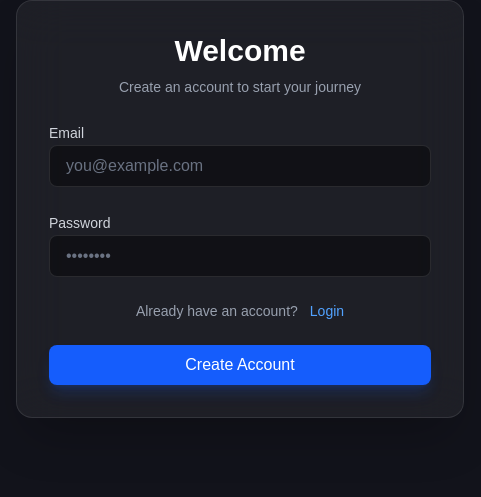
Test case: auth flow › shows an error for duplicate signup email
The width and height of the screenshot is (481, 497).
In the field with test id "auth-signup-email": (240, 166) [49,145,431,187], type "taken@example.com"
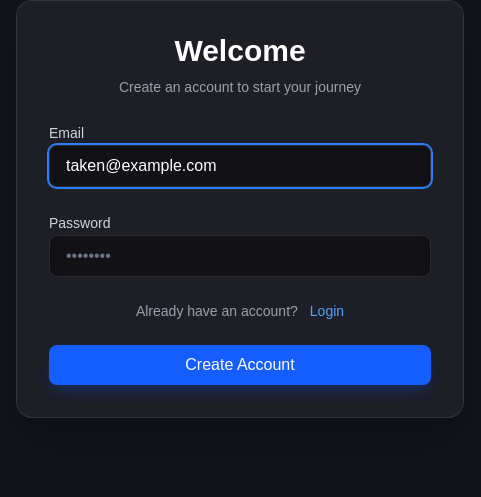
In the password field with test id "auth-signup-password": (240, 256) [49,235,431,277], type "newpassword"
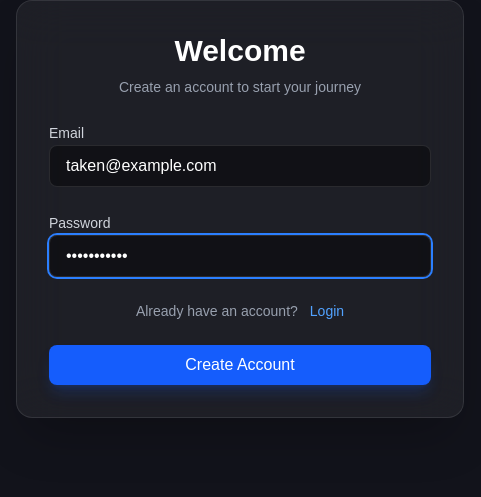
Click the button with test id "auth-signup-submit": (240, 365) [49,345,431,385]
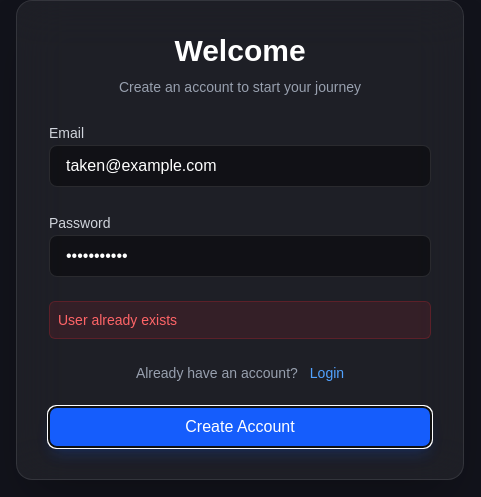
Now the text "User already exists" is shown, box [49,301,431,339]
